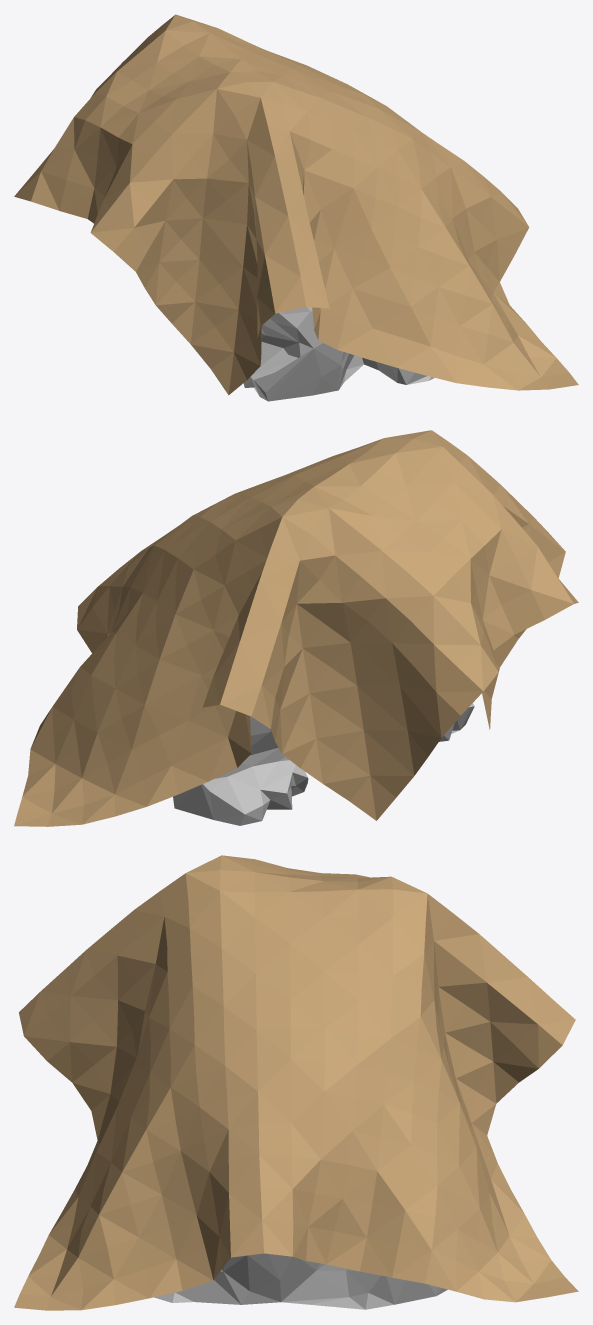
Rendered from level_0.glb.
3 views of the same model, one above another, from view 1: azimuth 30°, elevation 25°; view 2: azimuth 150°, elevation 25°; view 3: azimuth 270°, elevation 25° (orthographic). The views are drawn at different scales.
Parts seen in each view (by area): view 1: world, object.obj; view 2: world, object.obj; view 3: world, object.obj.
Part boxes in pixels (left/top/right/bottom): world: left=14, top=14, right=578, bottom=395; object.obj: left=243, top=307, right=434, bottom=401; world: left=14, top=430, right=578, bottom=826; object.obj: left=173, top=703, right=474, bottom=825; world: left=14, top=855, right=578, bottom=1310; object.obj: left=154, top=1253, right=447, bottom=1309.
Size of the model in its own units: 0.4758 by 0.2965 by 0.4851.
